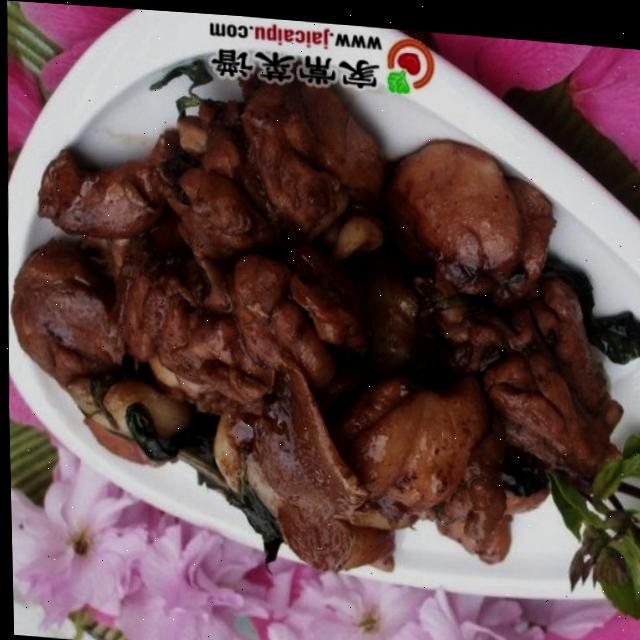鸡肉料理 含炸鸡: (18, 21, 624, 634)
